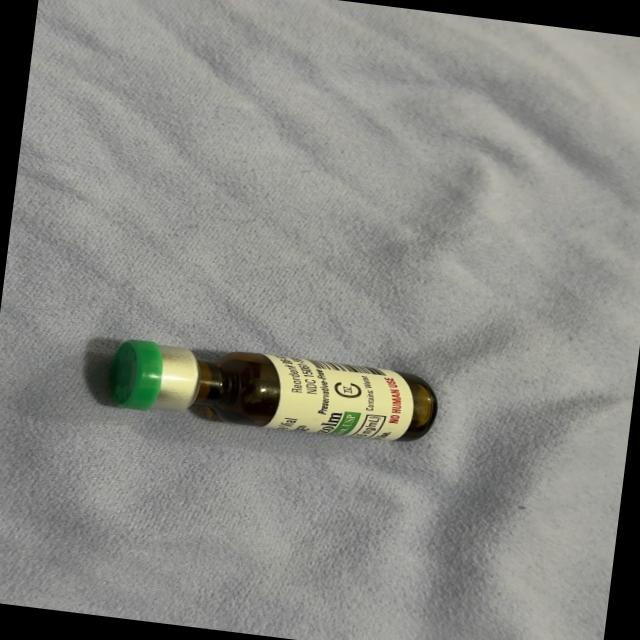midazolm: (110, 336, 434, 446)
